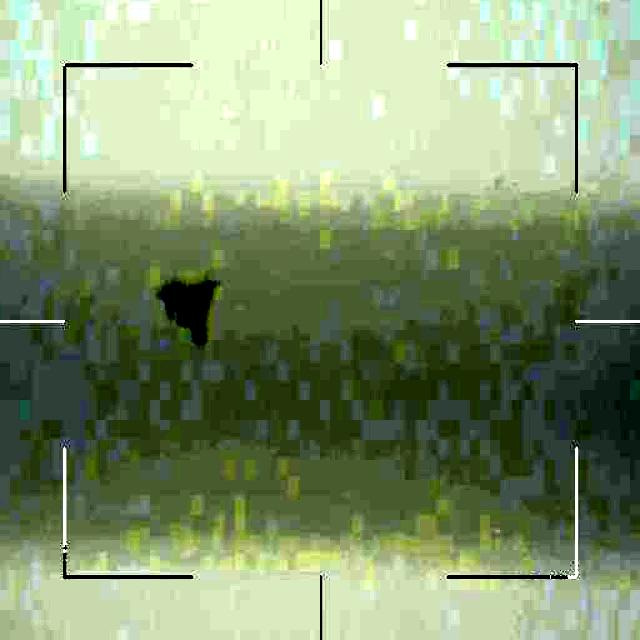bird: (150, 269, 220, 349)
